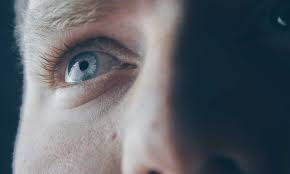pupil: (67, 53, 97, 81)
